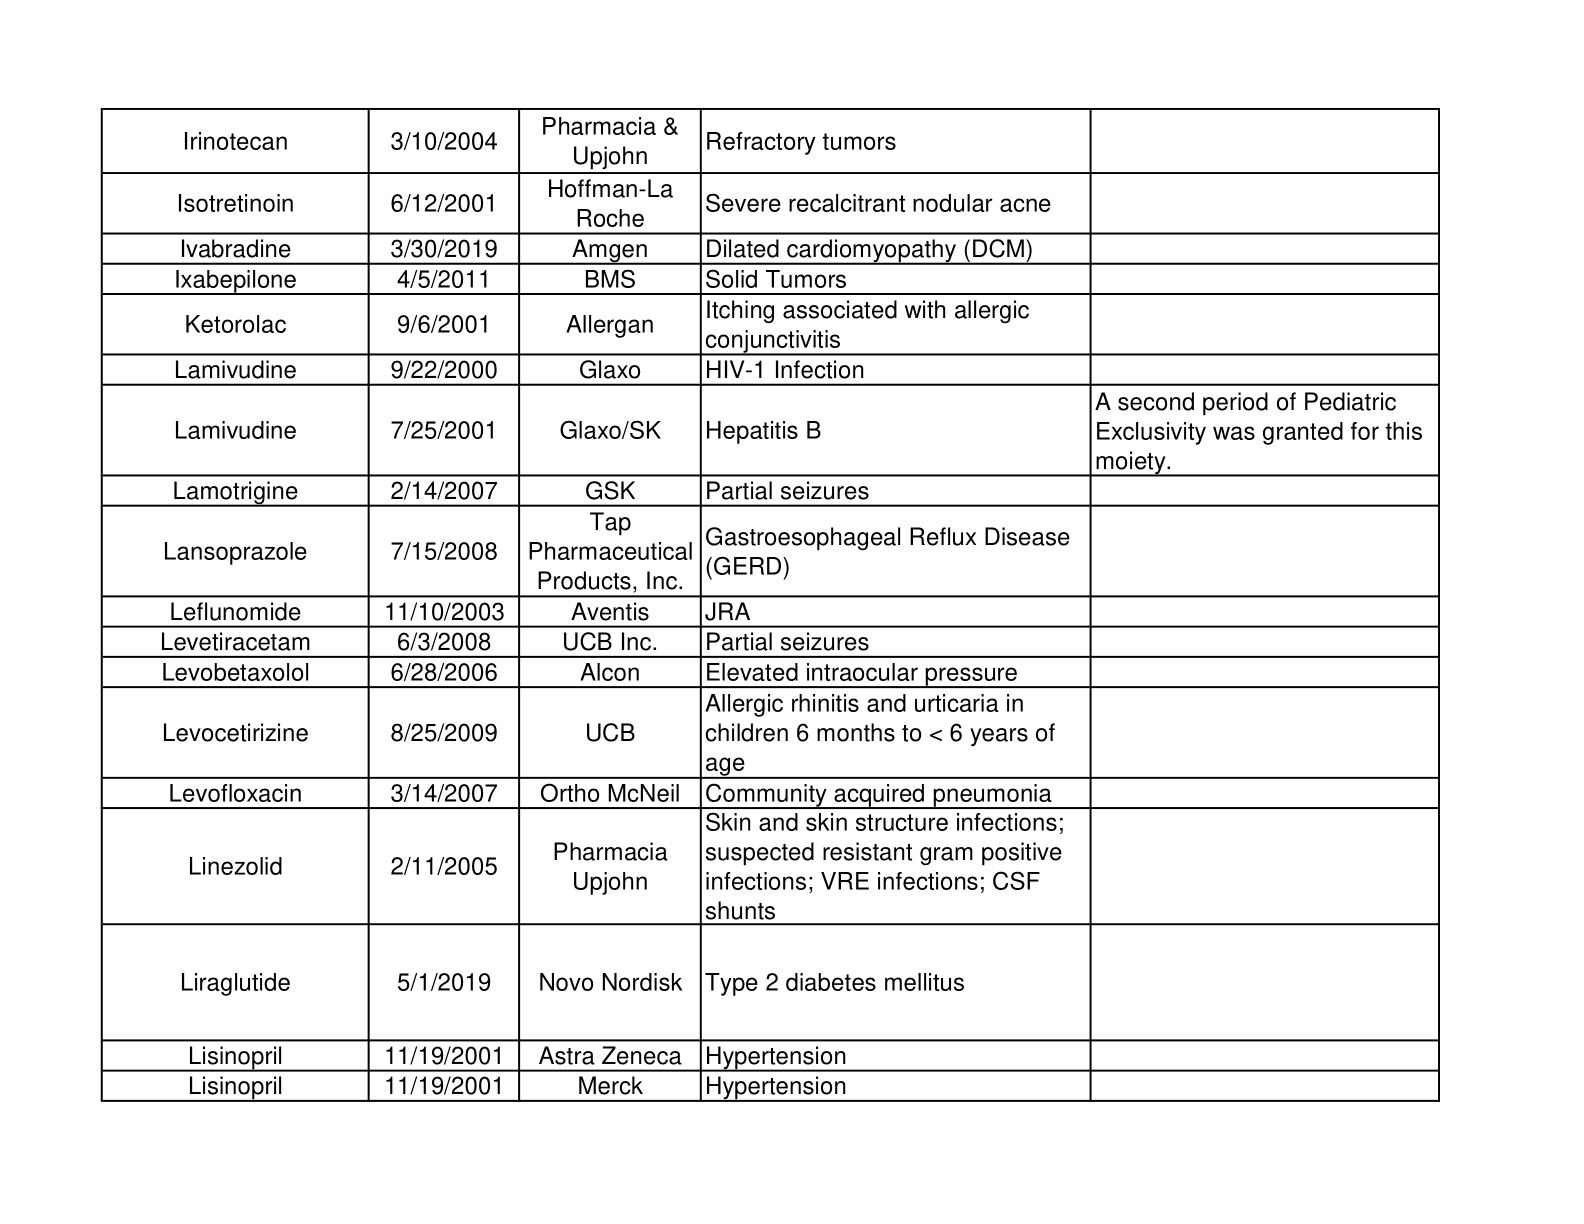full_lined: (100, 107, 1440, 1103)
